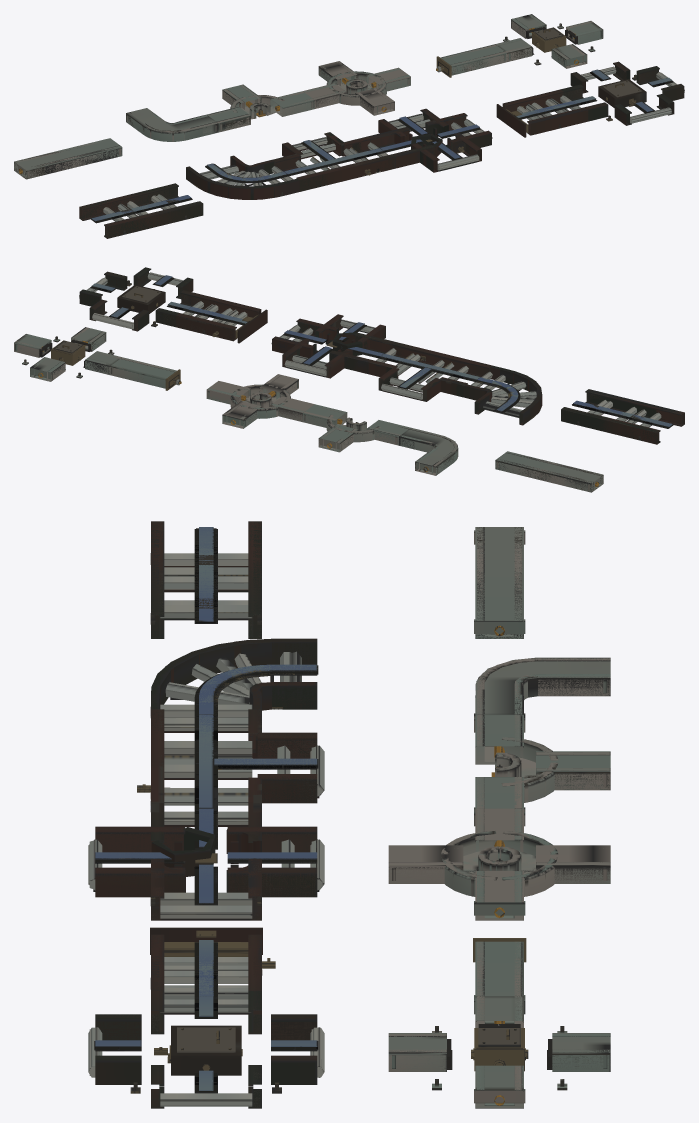
File: works_conduit_kit.glb
3 renders of one model, top to bottom at view 1: azimuth 30°, elevation 25°; view 2: azimuth 150°, elevation 25°; view 3: azimuth 270°, elevation 25°, orthographic. The views are drawn at different scales.
Visible parts, largest first — view 1: LOD0_Merged_Material_Atlas__lane_cross, LOD0_Merged_Material_Atlas__lane_t, LOD0_Merged_Material_Atlas__lane_straight, LOD0_Merged_Material_Atlas__lane_junction, LOD0_Merged_Material_Atlas__lane_corner, LOD0_Merged_Material_Atlas__lane_end, LOD0_Merged_Material_Atlas__power_junction, LOD0_Merged_Material_Atlas__power_cross, LOD1_Merged_Material_Atlas__lane_straight, LOD2_Merged_Material_Atlas__power_cross, LOD1_Merged_Material_Atlas__lane_t, LOD1_Merged_Material_Atlas__lane_cross (+20 smaller); view 2: LOD0_Merged_Material_Atlas__lane_cross, LOD0_Merged_Material_Atlas__lane_junction, LOD0_Merged_Material_Atlas__lane_t, LOD0_Merged_Material_Atlas__lane_straight, LOD0_Merged_Material_Atlas__lane_end, LOD0_Merged_Material_Atlas__power_junction, LOD1_Merged_Material_Atlas__lane_t, LOD0_Merged_Material_Atlas__lane_corner, LOD2_Merged_Material_Atlas__power_cross, LOD1_Merged_Material_Atlas__lane_cross, LOD0_Merged_Material_Atlas__power_cross, LOD0_Merged_Material_Atlas__power_t (+19 smaller); view 3: LOD0_Merged_Material_Atlas__lane_cross, LOD0_Merged_Material_Atlas__lane_t, LOD0_Merged_Material_Atlas__lane_junction, LOD0_Merged_Material_Atlas__power_cross, LOD0_Merged_Material_Atlas__power_junction, LOD0_Merged_Material_Atlas__lane_corner, LOD0_Merged_Material_Atlas__lane_end, LOD2_Merged_Material_Atlas__power_cross, LOD0_Merged_Material_Atlas__lane_straight, LOD1_Merged_Material_Atlas__lane_cross, LOD1_Merged_Material_Atlas__lane_t, LOD1_Merged_Material_Atlas__lane_corner (+23 smaller).
Part boxes in pixels (x1,y1,x2,y2): LOD0_Merged_Material_Atlas__lane_cross: (368, 108, 492, 172); LOD0_Merged_Material_Atlas__lane_t: (271, 133, 395, 191); LOD0_Merged_Material_Atlas__lane_straight: (79, 183, 203, 238); LOD0_Merged_Material_Atlas__lane_junction: (561, 61, 684, 125); LOD0_Merged_Material_Atlas__lane_corner: (186, 155, 299, 199); LOD0_Merged_Material_Atlas__lane_end: (496, 89, 588, 137); LOD0_Merged_Material_Atlas__power_junction: (495, 14, 603, 68); LOD0_Merged_Material_Atlas__power_cross: (304, 61, 410, 115); LOD1_Merged_Material_Atlas__lane_straight: (79, 184, 202, 238); LOD2_Merged_Material_Atlas__power_cross: (303, 61, 410, 113); LOD1_Merged_Material_Atlas__lane_t: (271, 132, 395, 191); LOD1_Merged_Material_Atlas__lane_cross: (369, 109, 492, 171); LOD0_Merged_Material_Atlas__lane_cross: (271, 314, 395, 378); LOD0_Merged_Material_Atlas__lane_junction: (79, 267, 202, 331); LOD0_Merged_Material_Atlas__lane_t: (368, 342, 492, 401); LOD0_Merged_Material_Atlas__lane_straight: (561, 389, 684, 444); LOD0_Merged_Material_Atlas__lane_end: (175, 295, 267, 343); LOD0_Merged_Material_Atlas__power_junction: (14, 327, 121, 381); LOD1_Merged_Material_Atlas__lane_t: (368, 342, 492, 398); LOD0_Merged_Material_Atlas__lane_corner: (464, 365, 542, 425); LOD2_Merged_Material_Atlas__power_cross: (206, 374, 314, 426); LOD1_Merged_Material_Atlas__lane_cross: (271, 315, 393, 376); LOD0_Merged_Material_Atlas__power_cross: (206, 375, 304, 428); LOD0_Merged_Material_Atlas__power_t: (302, 407, 409, 452); LOD0_Merged_Material_Atlas__lane_cross: (89, 803, 324, 920); LOD0_Merged_Material_Atlas__lane_t: (137, 709, 324, 826); LOD0_Merged_Material_Atlas__lane_junction: (88, 991, 324, 1108); LOD0_Merged_Material_Atlas__power_cross: (388, 808, 610, 920); LOD0_Merged_Material_Atlas__power_junction: (388, 996, 610, 1108); LOD0_Merged_Material_Atlas__lane_corner: (150, 638, 317, 717); LOD0_Merged_Material_Atlas__lane_end: (150, 927, 275, 1014); LOD2_Merged_Material_Atlas__power_cross: (388, 808, 610, 917); LOD0_Merged_Material_Atlas__lane_straight: (150, 521, 261, 638); LOD1_Merged_Material_Atlas__lane_cross: (88, 808, 323, 920); LOD1_Merged_Material_Atlas__lane_t: (137, 709, 323, 821); LOD1_Merged_Material_Atlas__lane_corner: (151, 638, 317, 714).
Size of the model in its own units: 13.28 by 0.348 by 5.17.
2 materials, 2 textured.
